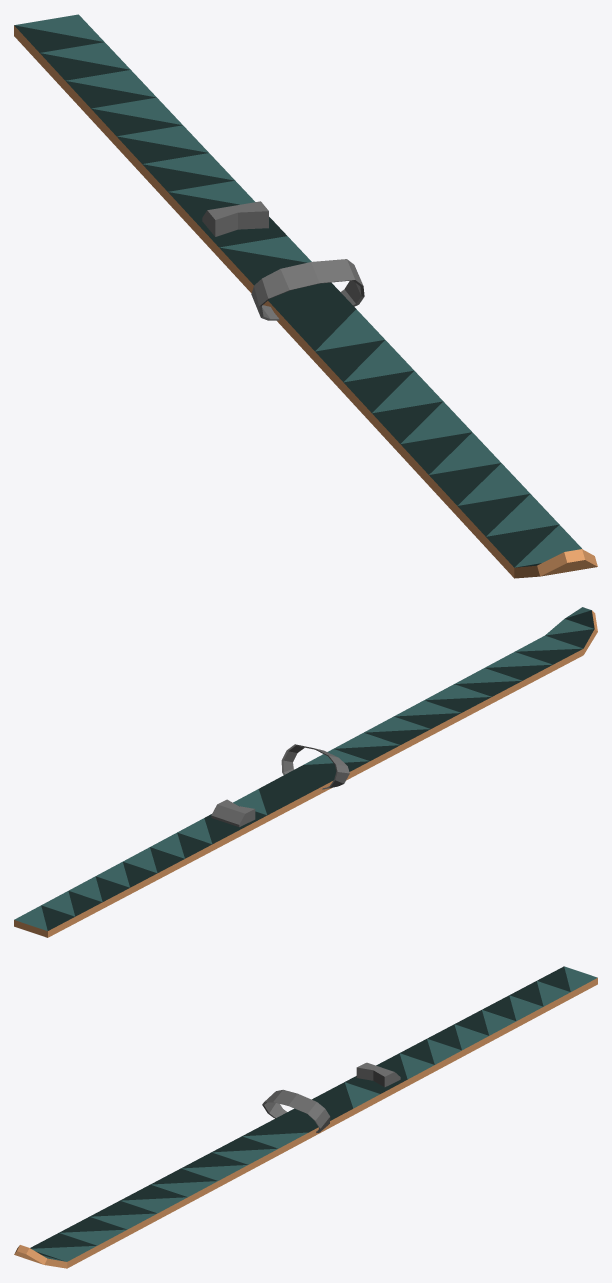
Rendered from Default_Ski.fbx.
3 renders of one model, top to bottom at view 1: azimuth 30°, elevation 25°; view 2: azimuth 150°, elevation 25°; view 3: azimuth 330°, elevation 25°, orthographic. The views are drawn at different scales.
Visible parts, largest first — view 1: Plane; view 2: Plane; view 3: Plane.
Boxes of the visible parts, <box> form: Plane: <box>14,14,597,578</box>; Plane: <box>14,607,597,937</box>; Plane: <box>14,966,597,1268</box>.
Bounding box in the file's own units: 47.39 × 10.47 × 245.
